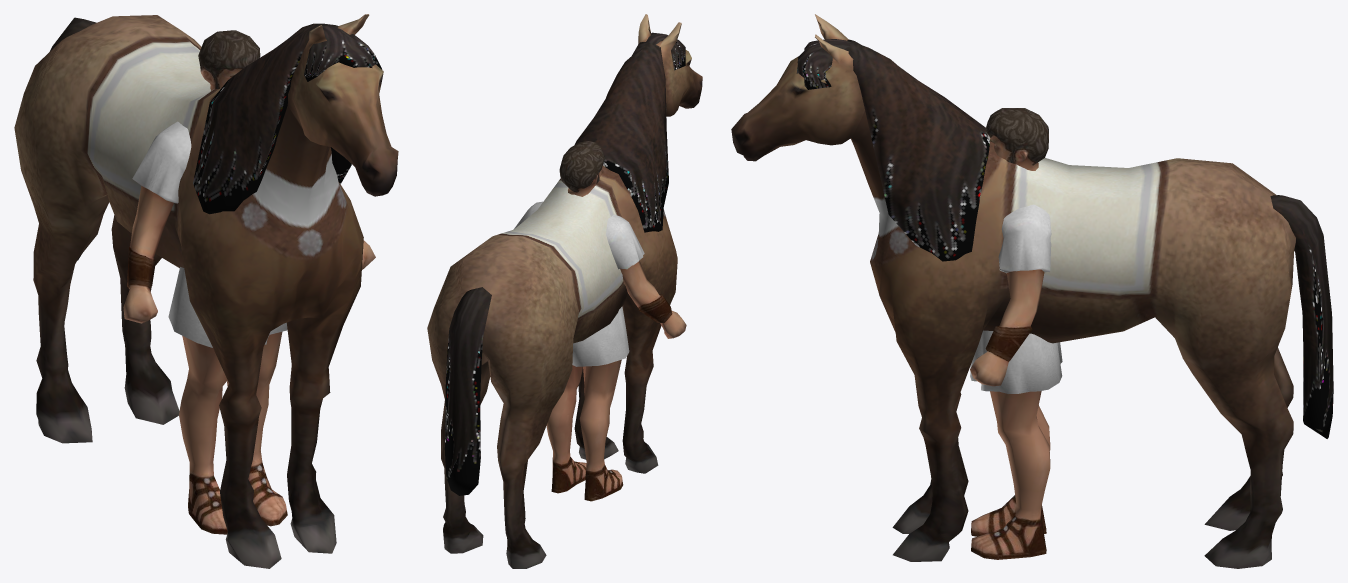
File: 5-prodromos.glb
3 renders of one model, left to right at view 1: azimuth 30°, elevation 25°; view 2: azimuth 150°, elevation 25°; view 3: azimuth 270°, elevation 25°, orthographic. The views are drawn at different scales.
Size of the model in its own units: 1.14 by 2.52 by 2.66.
Materials: 2 (2 with a texture image).
